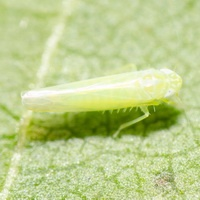insect: (21, 69, 181, 137)
